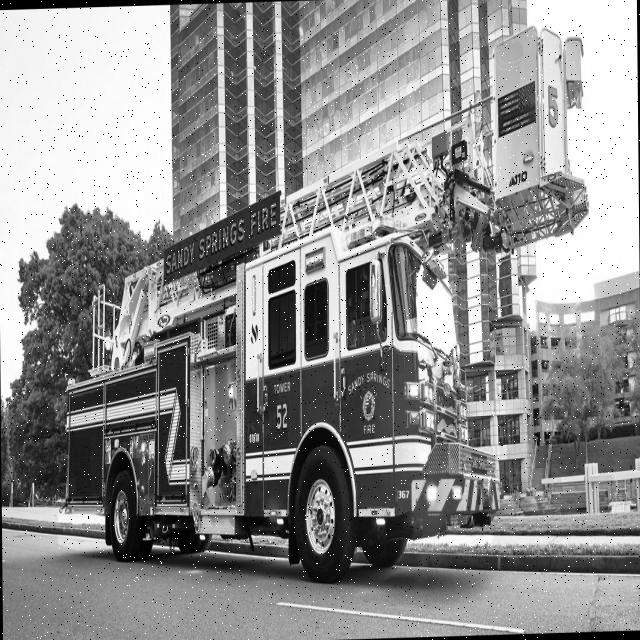Fire Truck: (64, 26, 590, 586)
